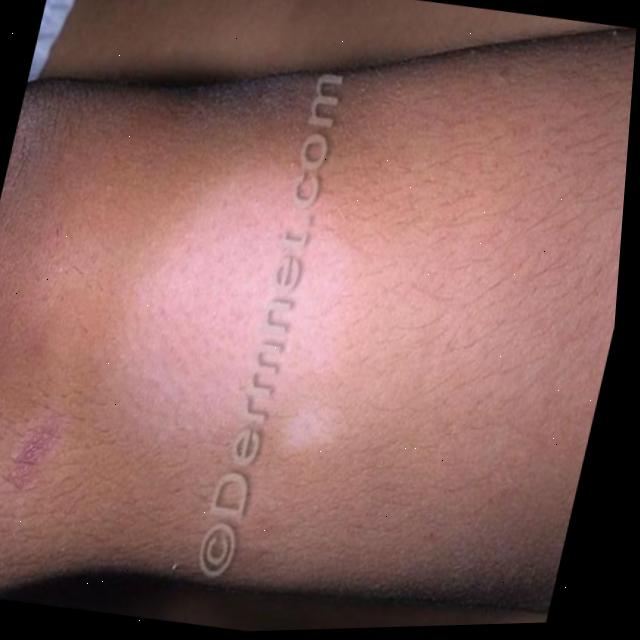Eczema: (44, 124, 402, 499)
